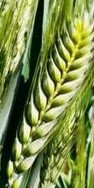Healthy Wheat: (11, 21, 94, 172)
